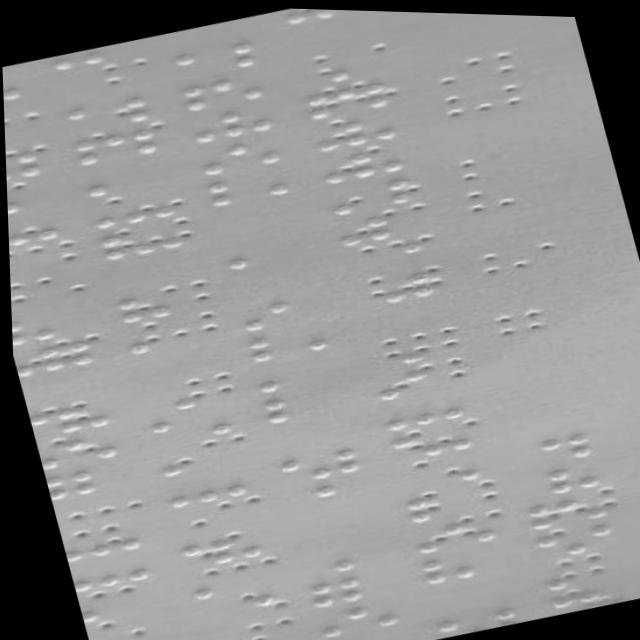braiile: (153, 459, 249, 510), (376, 385, 467, 433), (217, 225, 306, 273), (234, 288, 322, 336), (178, 69, 269, 115), (187, 99, 276, 145), (77, 155, 166, 200), (69, 125, 158, 170), (299, 565, 388, 610), (412, 540, 501, 585), (256, 381, 342, 427), (242, 318, 328, 364), (204, 163, 291, 208), (308, 595, 395, 639), (197, 132, 282, 177), (64, 549, 148, 594), (41, 459, 126, 503), (251, 352, 336, 395), (9, 302, 88, 348), (72, 583, 151, 625), (48, 38, 132, 76), (3, 116, 42, 161), (316, 624, 400, 640)
